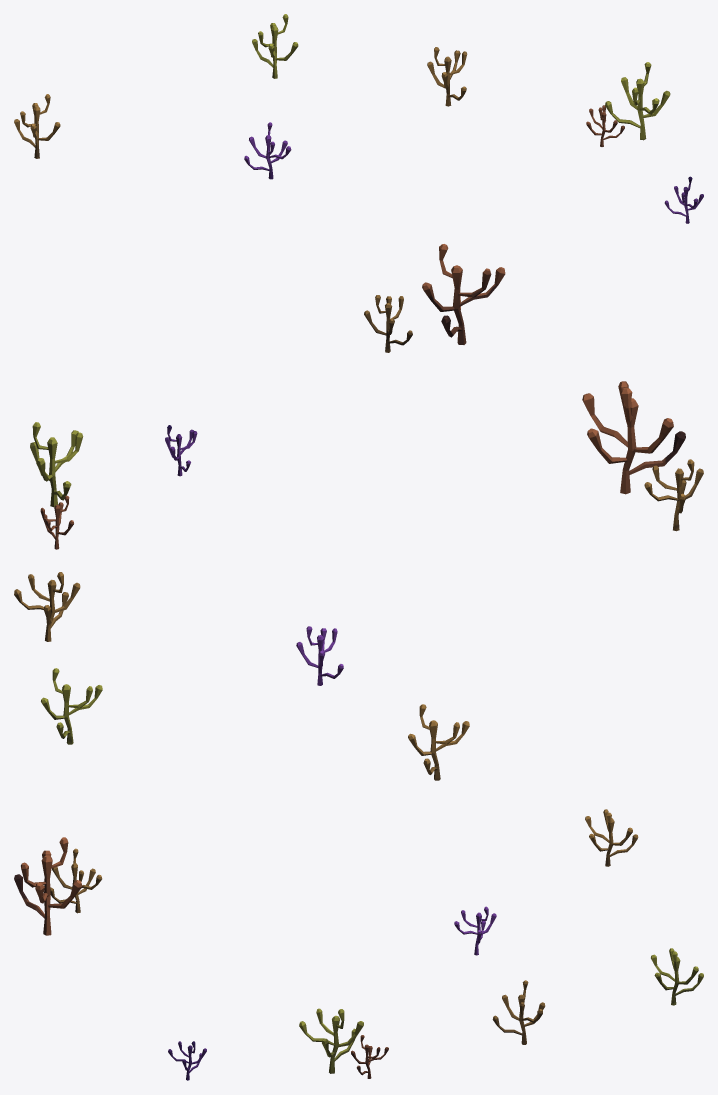
Rendered from Plant_03.FBX.
3 renders of one model, top to bottom at view 1: azimuth 30°, elevation 25°; view 2: azimuth 150°, elevation 25°; view 3: azimuth 270°, elevation 25°, orthographic. The views are drawn at different scales.
Parts seen in each view (by area): view 1: Plant_03; view 2: Plant_03; view 3: Plant_03.
Boxes of the visible parts, x1,y1,x2,y2 form: Plant_03: [14, 14, 703, 352]; Plant_03: [14, 381, 703, 780]; Plant_03: [14, 809, 703, 1080].
Size of the model in its own units: 19.43 by 3.71 by 23.89.
